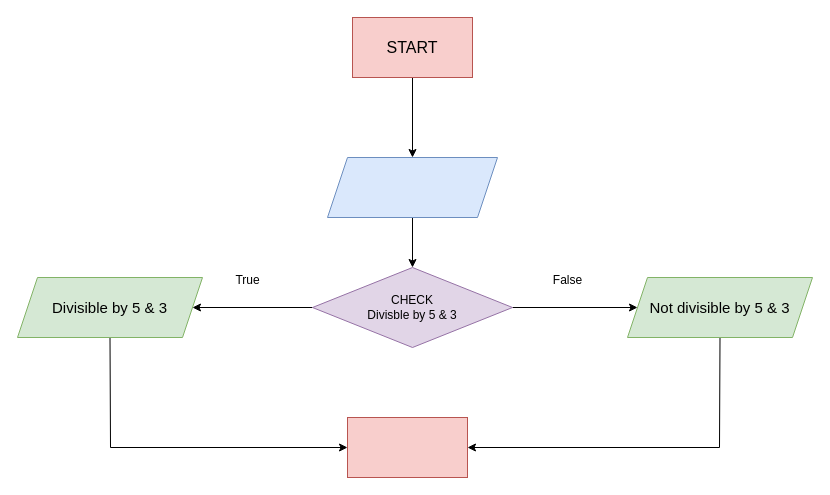
The diagram is 830 pixels wide and 495 high, and some of its shapes have lost their labels. Here are the shapes that lost their labels. From the top down, the centre of each, then its label:
At (x=412, y=187): "Input Int Number".
At (x=407, y=447): "END".
